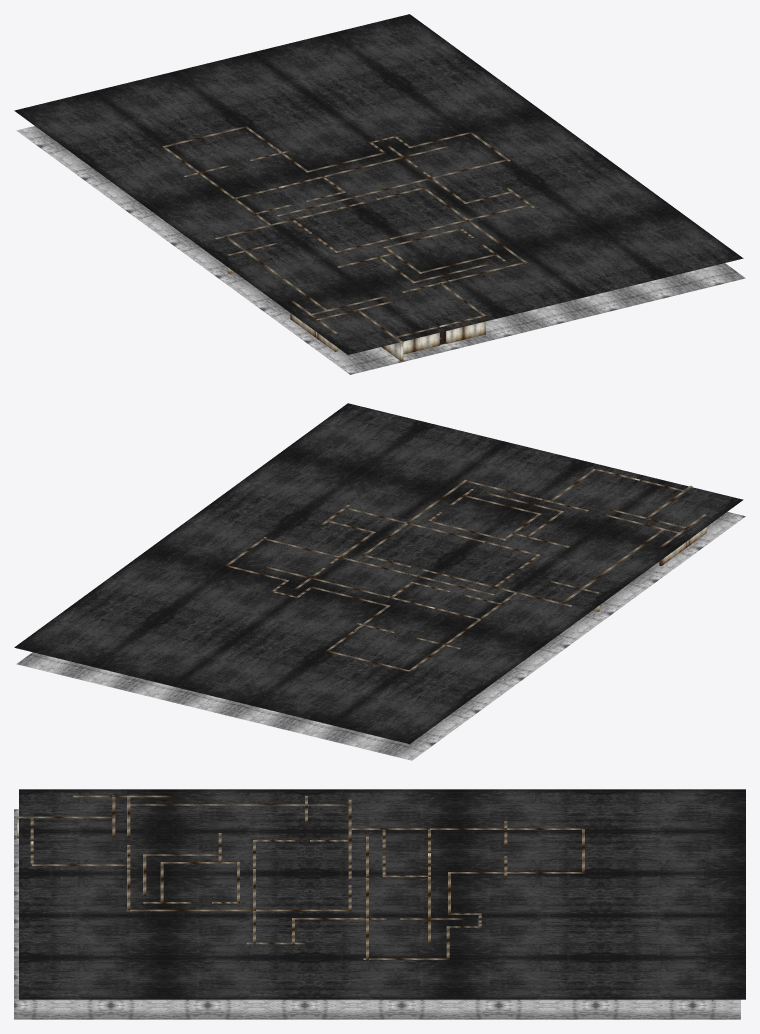
Rendered from mainScene6.gltf.
The picture shows the model from 3 angles, top to bottom: view 1: azimuth 30°, elevation 25°; view 2: azimuth 150°, elevation 25°; view 3: azimuth 270°, elevation 25°; orthographic projection. The views are drawn at different scales.
Visible parts, largest first — view 1: Ceiling, Floor, Wall.061, Wall.060; view 2: Ceiling, Floor; view 3: Ceiling, Floor.
Boxes of the visible parts, left/top/right/bottom form: Ceiling: left=14, top=14, right=743, bottom=354; Floor: left=16, top=126, right=745, bottom=374; Wall.061: left=445, top=315, right=485, bottom=343; Wall.060: left=396, top=326, right=439, bottom=354; Ceiling: left=14, top=403, right=743, bottom=744; Floor: left=16, top=512, right=745, bottom=760; Ceiling: left=19, top=789, right=745, bottom=999; Floor: left=14, top=809, right=740, bottom=1019.
Bounding box in the file's own units: 101 × 4.62 × 149.
Materials: 19 (19 with a texture image).
